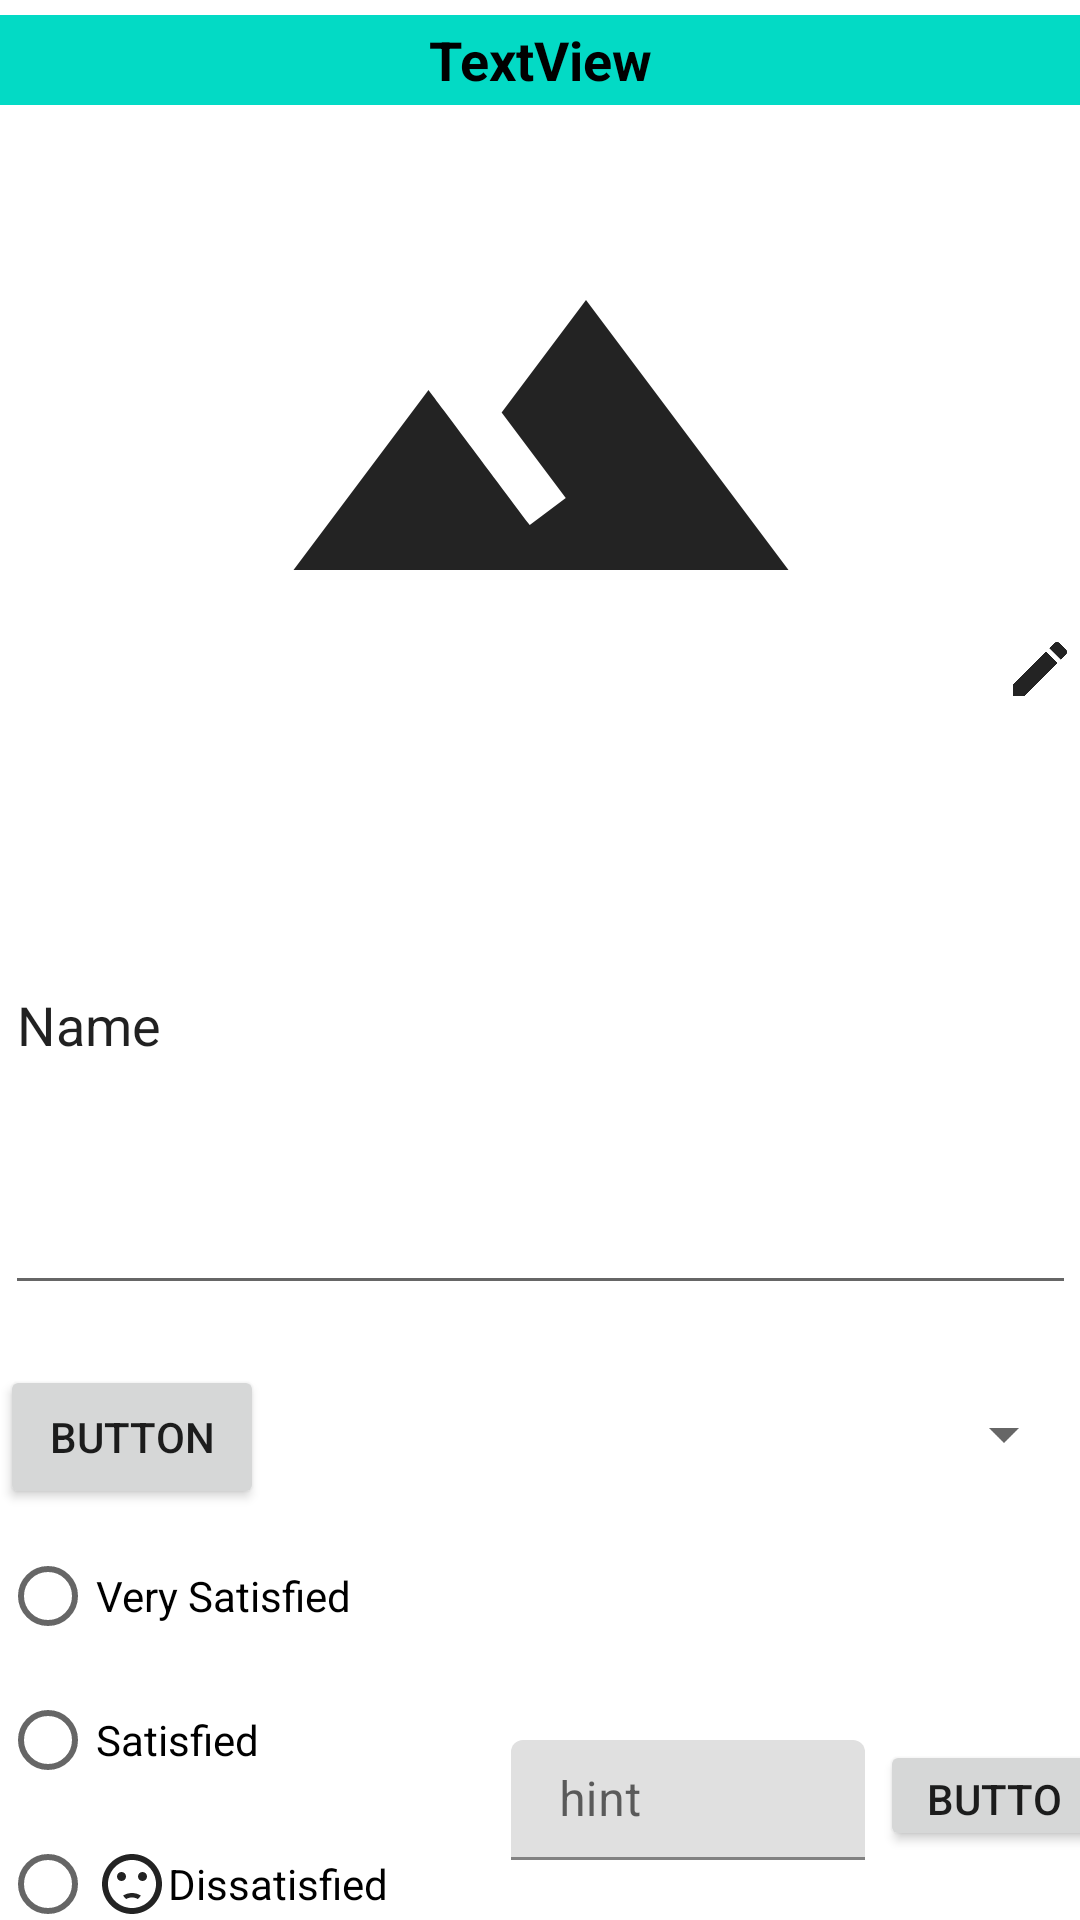

Icon bounding boxes for this 1080px×1920px phone screenshot, format (x1, y1, x2, y2):
edit: (1013, 642, 1067, 696)
